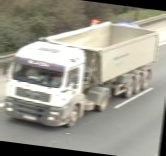truck: (1, 10, 158, 140)
